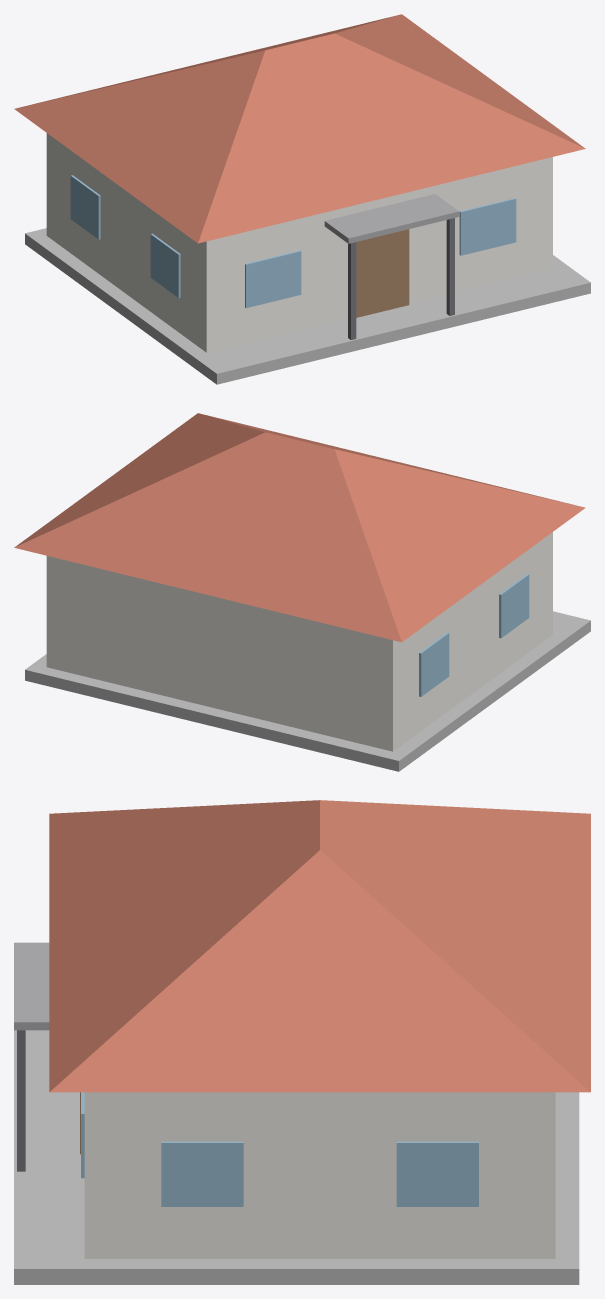
The model's file is house-cap4.glb.
3 renders of one model, top to bottom at view 1: azimuth 30°, elevation 25°; view 2: azimuth 150°, elevation 25°; view 3: azimuth 270°, elevation 25°, orthographic. The views are drawn at different scales.
Parts seen in each view (by area): view 1: Mái, Tường, Nền, Cửa sổ trước, Cửa chính, Hiên, Cửa sổ hông, Cột hiên; view 2: Mái, Tường, Nền, Cửa sổ hông; view 3: Mái, Tường, Nền, Cửa sổ hông, Hiên, Cột hiên.
Boxes of the visible parts, x1=… form: Mái: x1=14, y1=14, x2=585, y2=243; Tường: x1=46, y1=133, x2=552, y2=352; Nền: x1=25, y1=228, x2=590, y2=384; Cửa sổ trước: x1=245, y1=198, x2=516, y2=308; Cửa chính: x1=356, y1=229, x2=409, y2=317; Hiên: x1=324, y1=194, x2=459, y2=243; Cửa sổ hông: x1=70, y1=175, x2=180, y2=297; Cột hiên: x1=348, y1=218, x2=454, y2=339; Mái: x1=14, y1=413, x2=585, y2=642; Tường: x1=46, y1=532, x2=552, y2=751; Nền: x1=25, y1=611, x2=590, y2=771; Cửa sổ hông: x1=419, y1=574, x2=529, y2=696; Mái: x1=49, y1=800, x2=590, y2=1092; Tường: x1=84, y1=1092, x2=555, y2=1258; Nền: x1=14, y1=1030, x2=579, y2=1284; Cửa sổ hông: x1=161, y1=1141, x2=478, y2=1206; Hiên: x1=14, y1=942, x2=49, y2=1030; Cột hiên: x1=17, y1=1030, x2=25, y2=1171.
Size of the model in its own units: 11.2 by 6.1 by 9.8.
